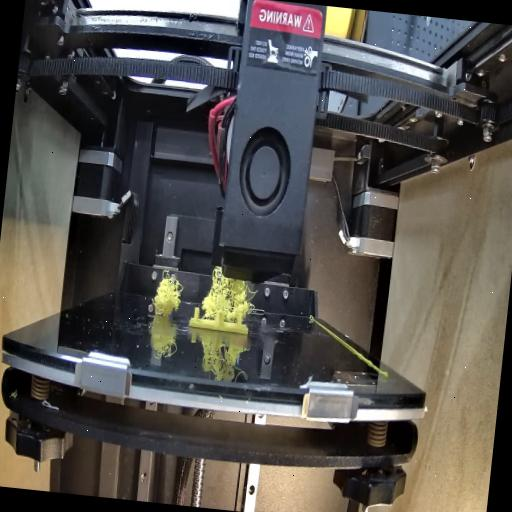spaghetti: (200, 263, 258, 322), (148, 269, 188, 320)
